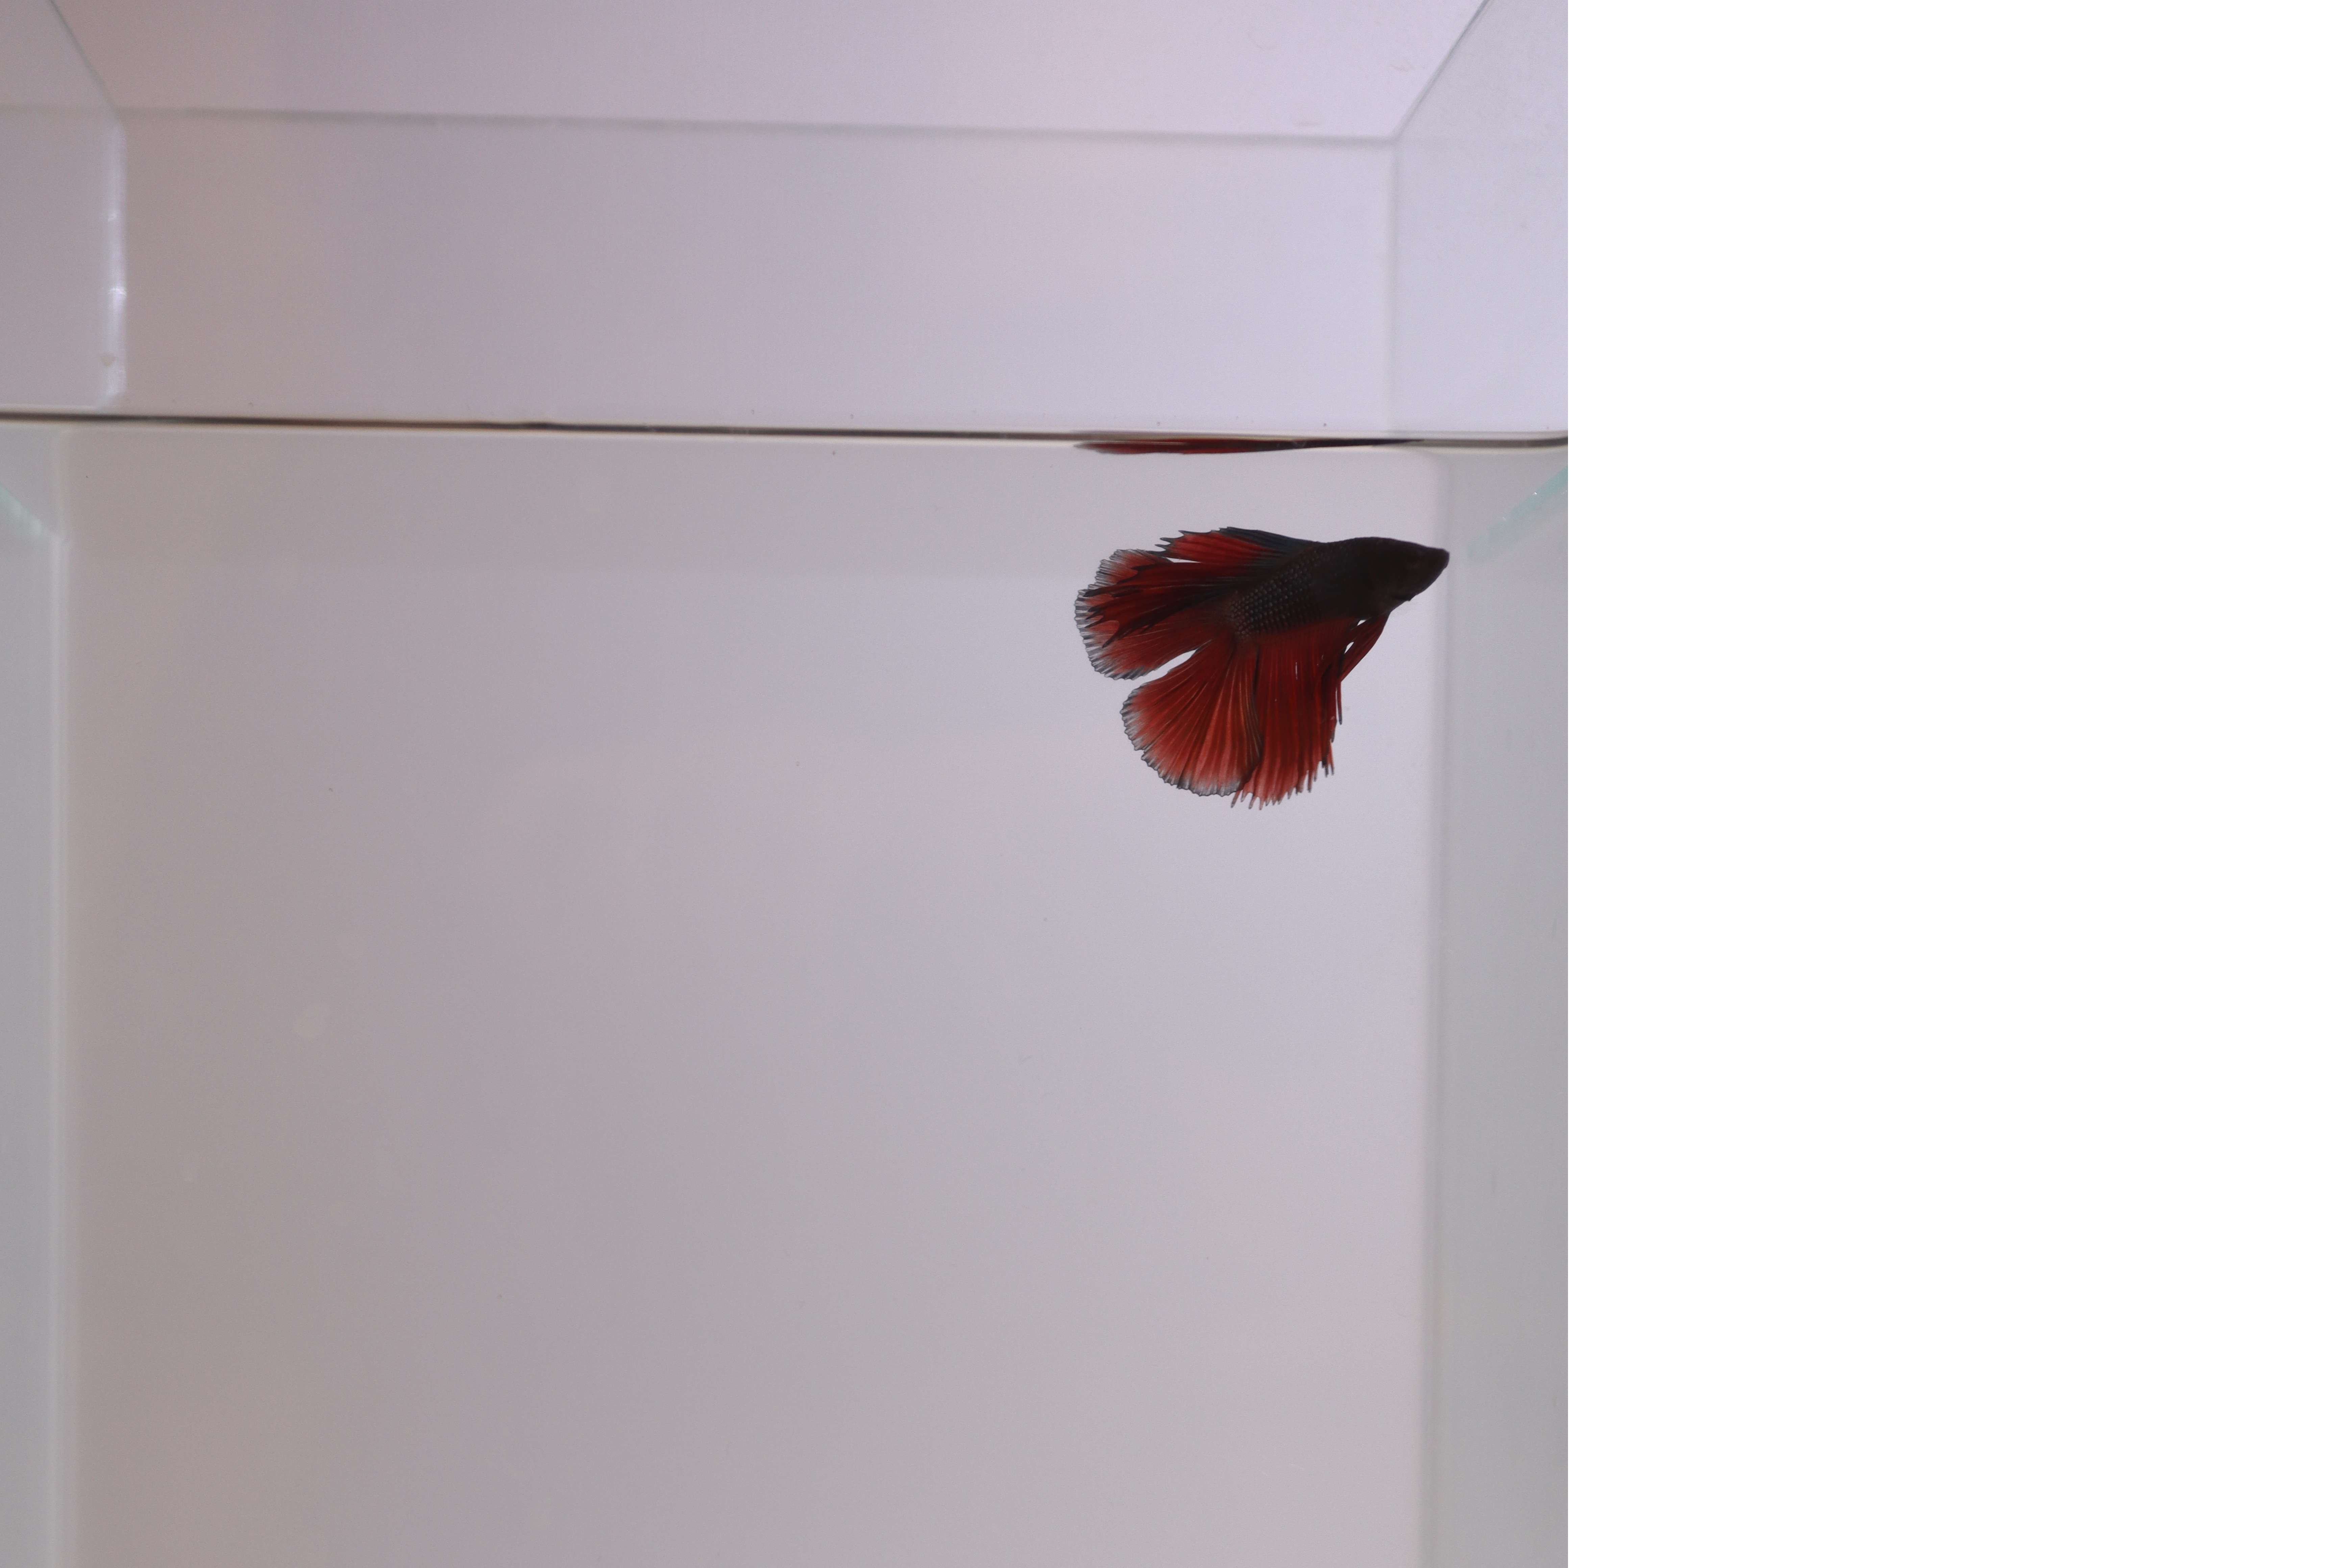fish: (1057, 514, 1463, 810)
